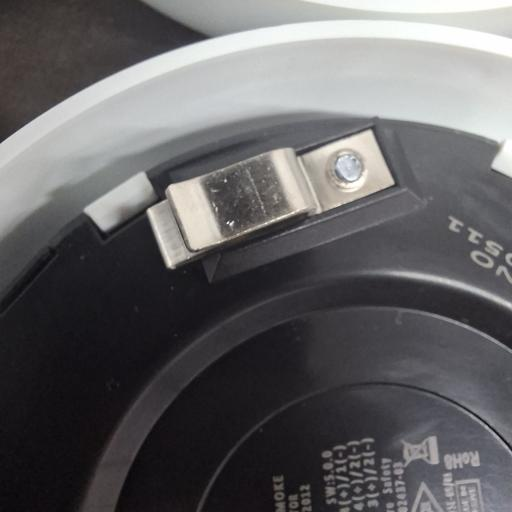yayli: (144, 130, 397, 272)
